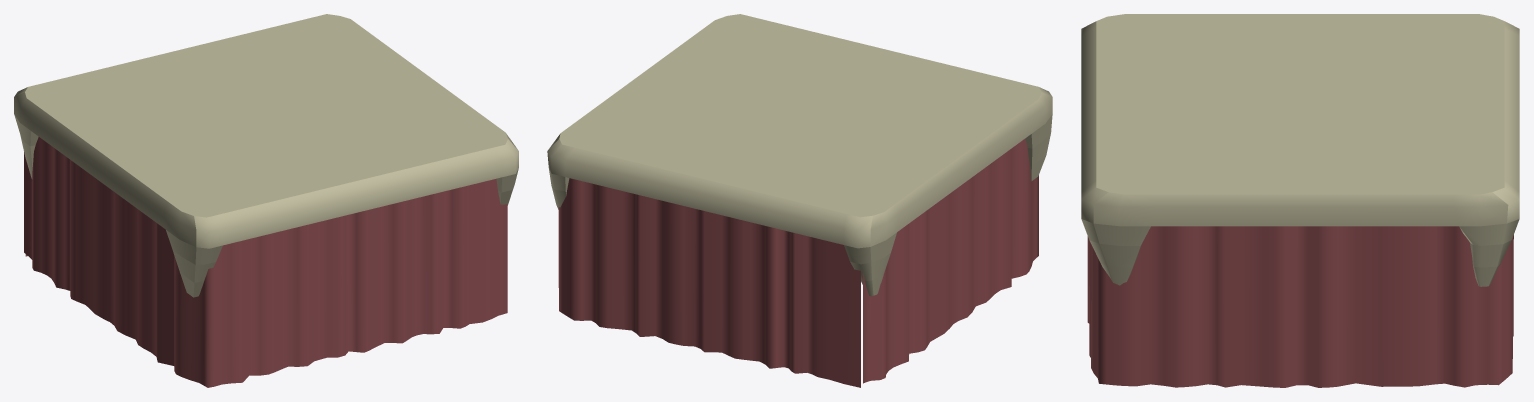
The model's file is MESA CHICA.fbx.
The picture shows the model from 3 angles, left to right: view 1: azimuth 30°, elevation 25°; view 2: azimuth 150°, elevation 25°; view 3: azimuth 270°, elevation 25°; orthographic projection. The views are drawn at different scales.
Parts seen in each view (by area): view 1: MesaPequeña1; view 2: MesaPequeña1; view 3: MesaPequeña1.
Boxes of the visible parts, <box> form: MesaPequeña1: <box>14,14,518,387</box>; MesaPequeña1: <box>547,14,1052,387</box>; MesaPequeña1: <box>1081,14,1519,387</box>.
Size of the model in its own units: 1.95 by 0.9516 by 1.95.
